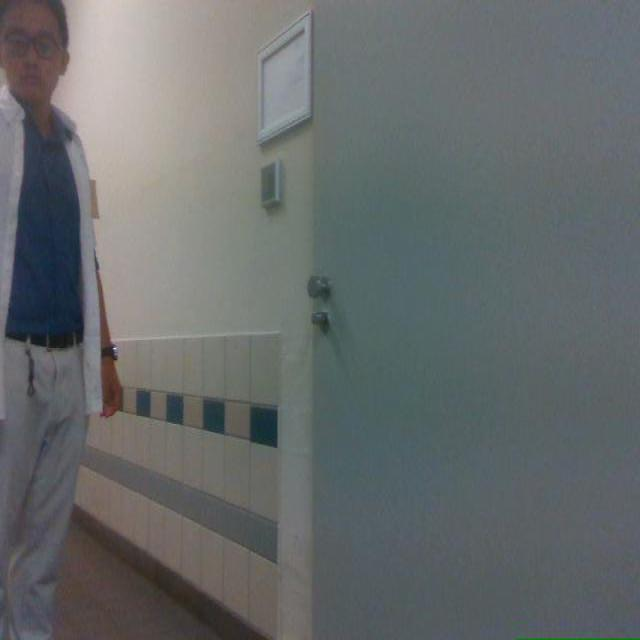humans: (0, 0, 121, 639)
